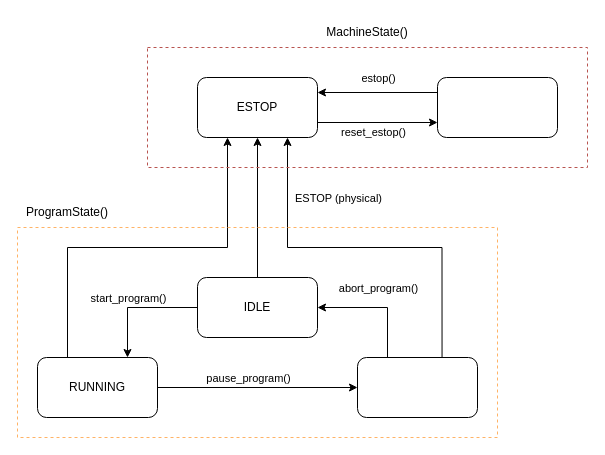
Image size: 605x455. Some labels were removed from this diagram. The box of each missing label's shape, as (x1, y1, x2, y2) in pixels:
ON: (436, 76, 558, 138)
PAUSED: (356, 356, 478, 418)
